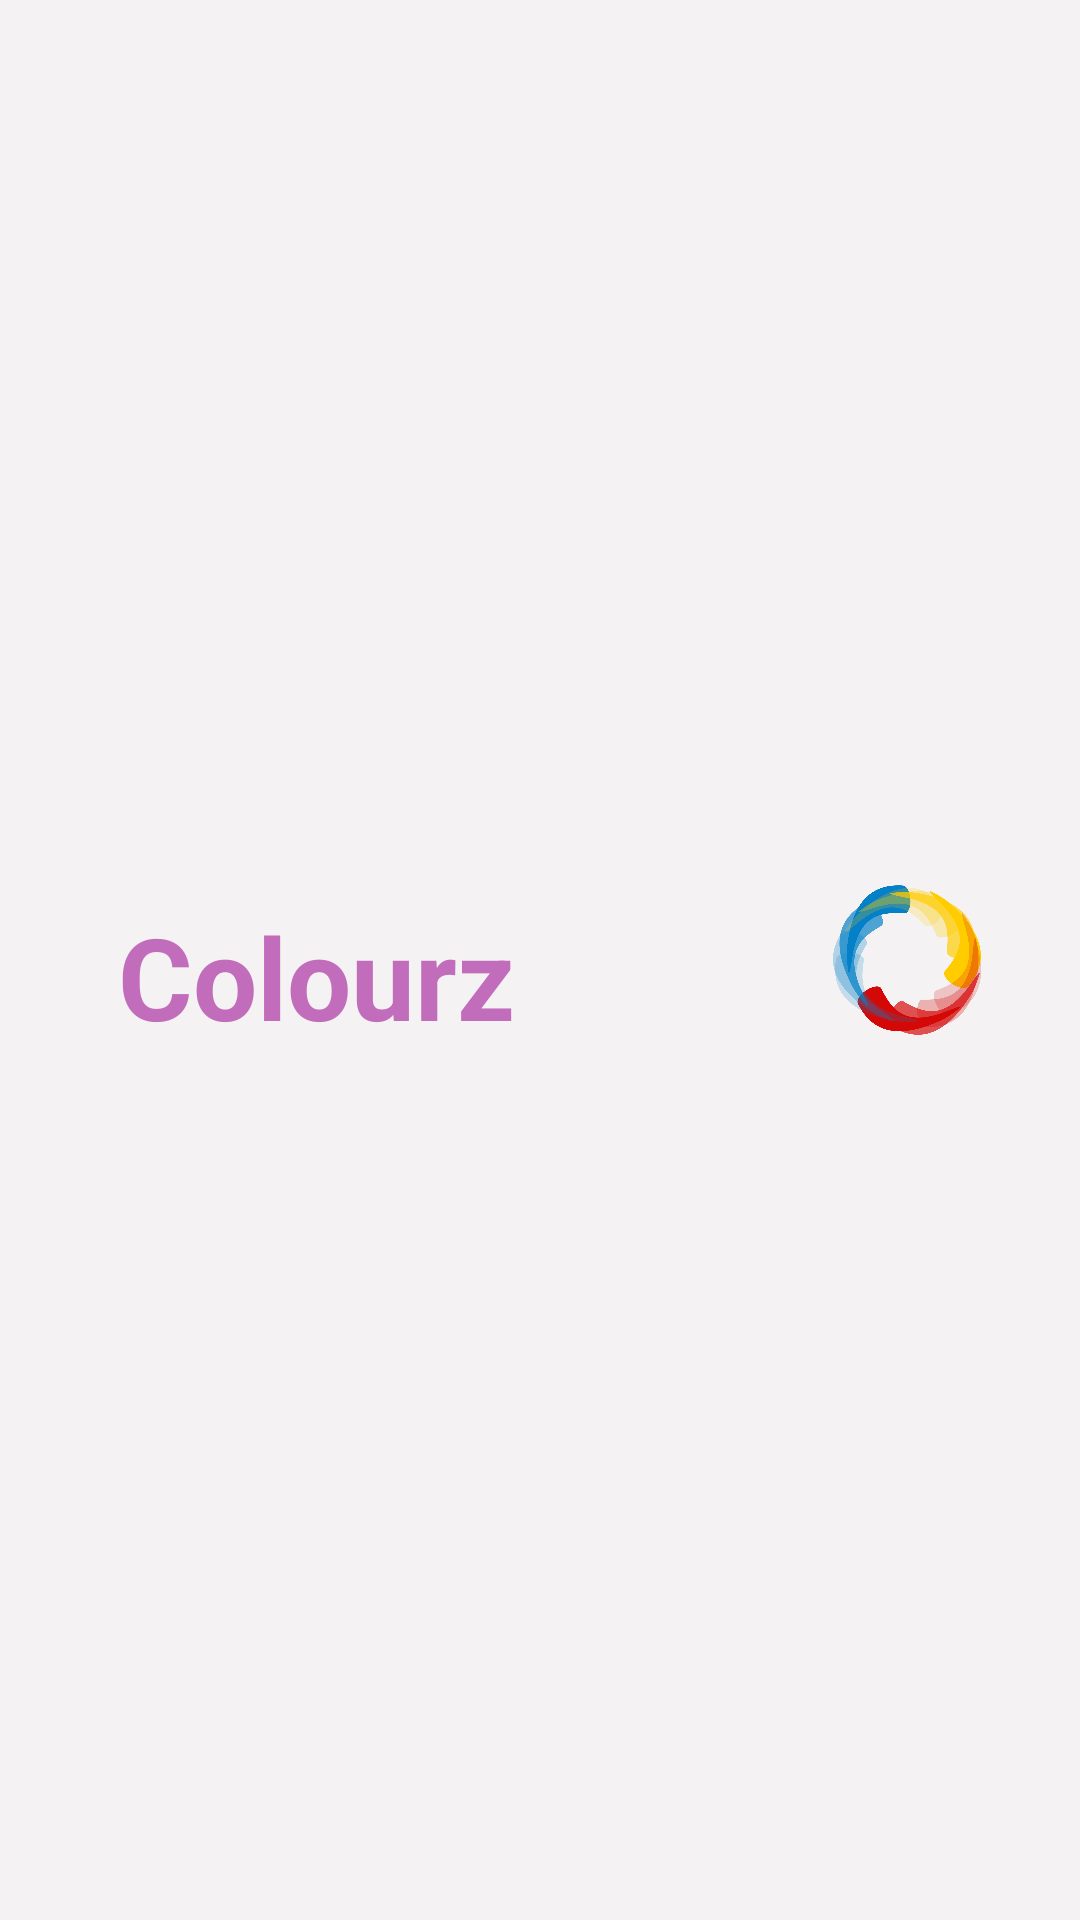

Icon click points for this 1080 x 1920 phone screenshot, format (x,y):
colourz: (907,960)
